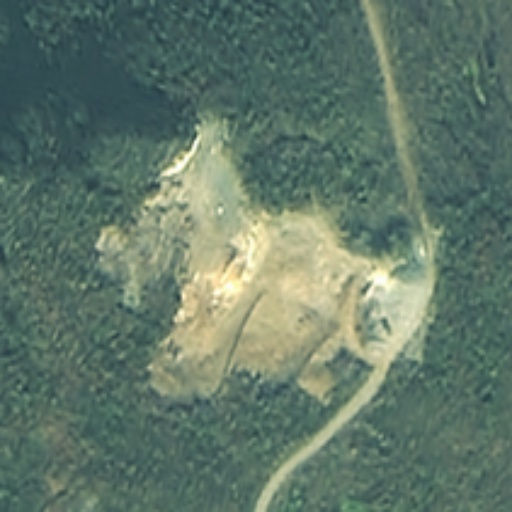landslide: (99, 115, 398, 405)
